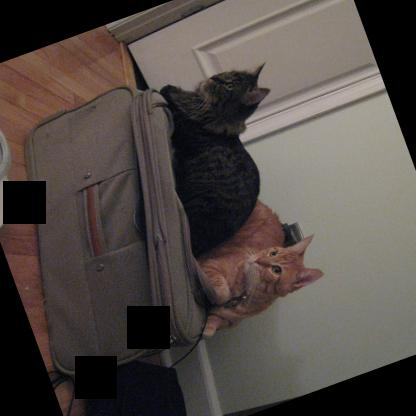suitcase: (23, 82, 213, 376)
